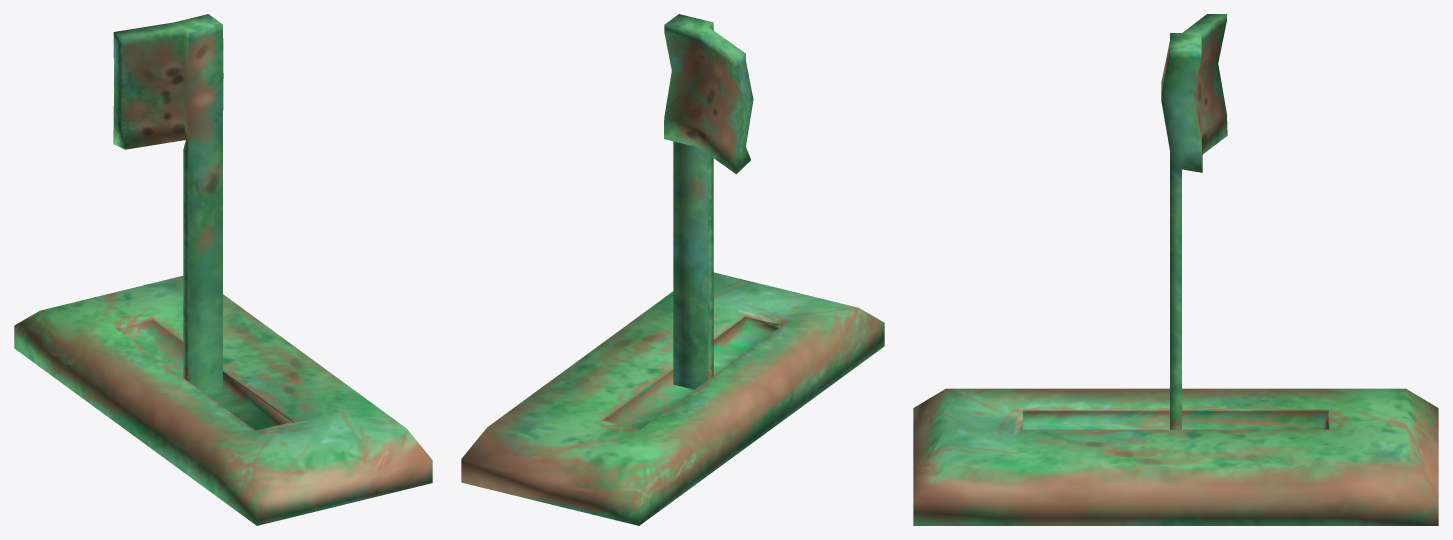
File: dswitch.glb
The picture shows the model from 3 angles, left to right: view 1: azimuth 30°, elevation 25°; view 2: azimuth 150°, elevation 25°; view 3: azimuth 270°, elevation 25°; orthographic projection. The views are drawn at different scales.
Visible parts, largest first — view 1: base, lever; view 2: base, lever; view 3: base, lever.
Part boxes in pixels (x1,y1,x2,y2): base: (14,276,432,525); lever: (113,14,223,391); base: (461,272,884,525); lever: (664,14,753,389); base: (913,388,1438,525); lever: (1161,14,1227,429).
Bounding box in the file's own units: 0.9653 × 2.04 × 2.28.
Materials: 1 (1 with a texture image).
